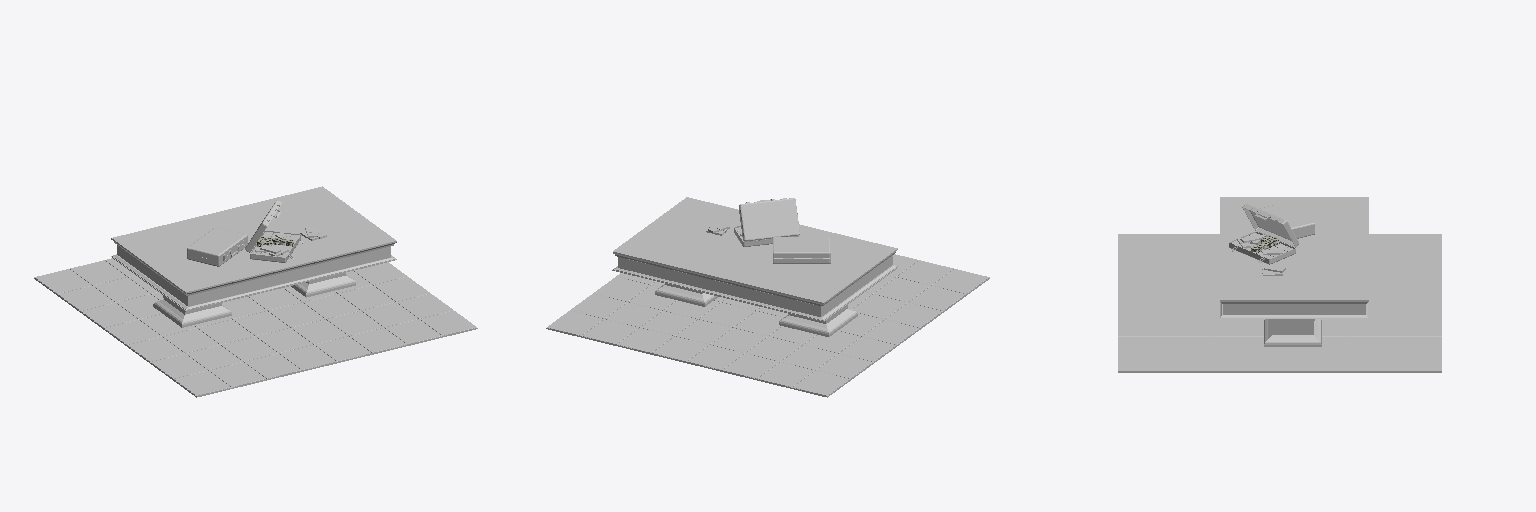
3 views of the same model, side by side, from view 1: azimuth 30°, elevation 25°; view 2: azimuth 150°, elevation 25°; view 3: azimuth 270°, elevation 25° (orthographic).
Visible parts, largest first — view 1: polySurface102 polySurface28, polySurface13, polySurface104, polySurface12, polySurface148; view 2: polySurface102 polySurface28, polySurface13, polySurface12, polySurface104; view 3: polySurface102 polySurface28, polySurface13, polySurface12, polySurface104, polySurface148.
Boxes of the visible parts, box(x1,y1,x2,y2) form: polySurface102 polySurface28: box(34, 258, 477, 397); polySurface13: box(111, 186, 396, 327); polySurface104: box(187, 227, 247, 266); polySurface12: box(245, 200, 303, 262); polySurface148: box(251, 227, 326, 256); polySurface102 polySurface28: box(546, 254, 989, 397); polySurface13: box(612, 197, 897, 336); polySurface12: box(734, 198, 799, 246); polySurface104: box(773, 237, 830, 263); polySurface102 polySurface28: box(1118, 234, 1441, 372); polySurface13: box(1220, 197, 1368, 346); polySurface12: box(1229, 203, 1298, 264); polySurface104: box(1260, 202, 1314, 238); polySurface148: box(1232, 233, 1292, 275).
Size of the model in its own units: 23.8 by 7.77 by 23.8.
9 materials, 1 textured.